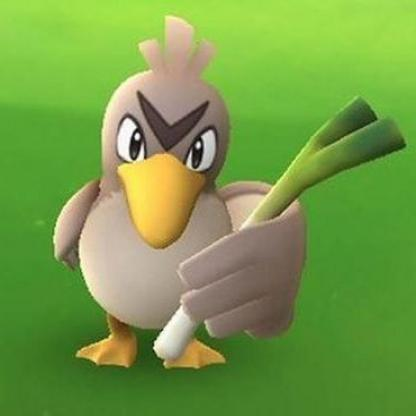Farfetchd: (56, 16, 404, 380)
